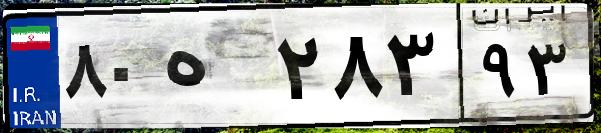0: (110, 28, 158, 98)
2: (270, 28, 330, 110)
3: (385, 28, 445, 110), (525, 38, 570, 115)
8: (330, 28, 385, 110), (57, 26, 110, 100)
9: (475, 38, 525, 113)
ه: (158, 20, 270, 120)
